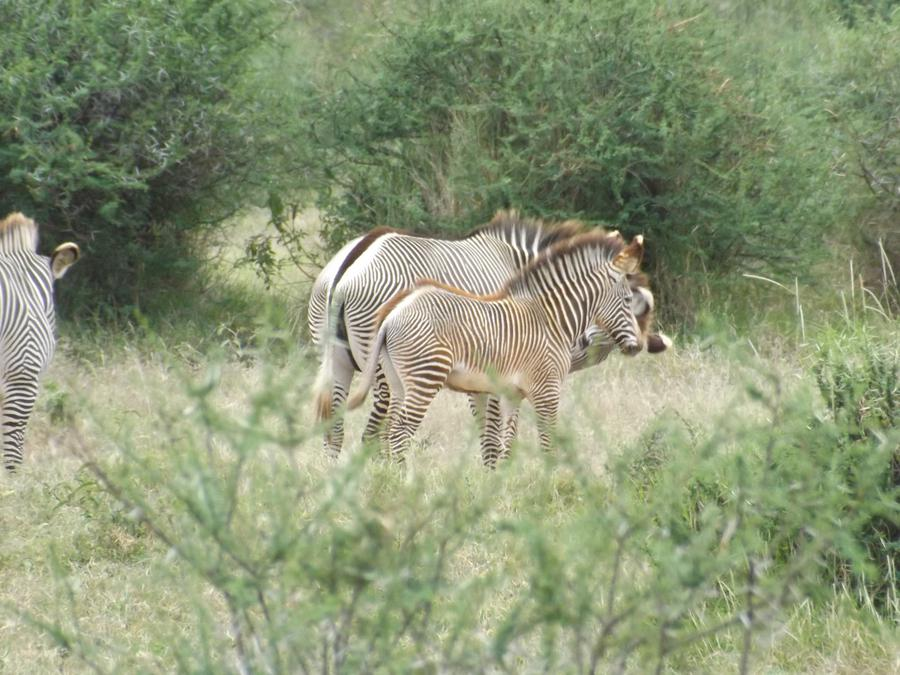zebra_grevys: (377, 282, 564, 393)
